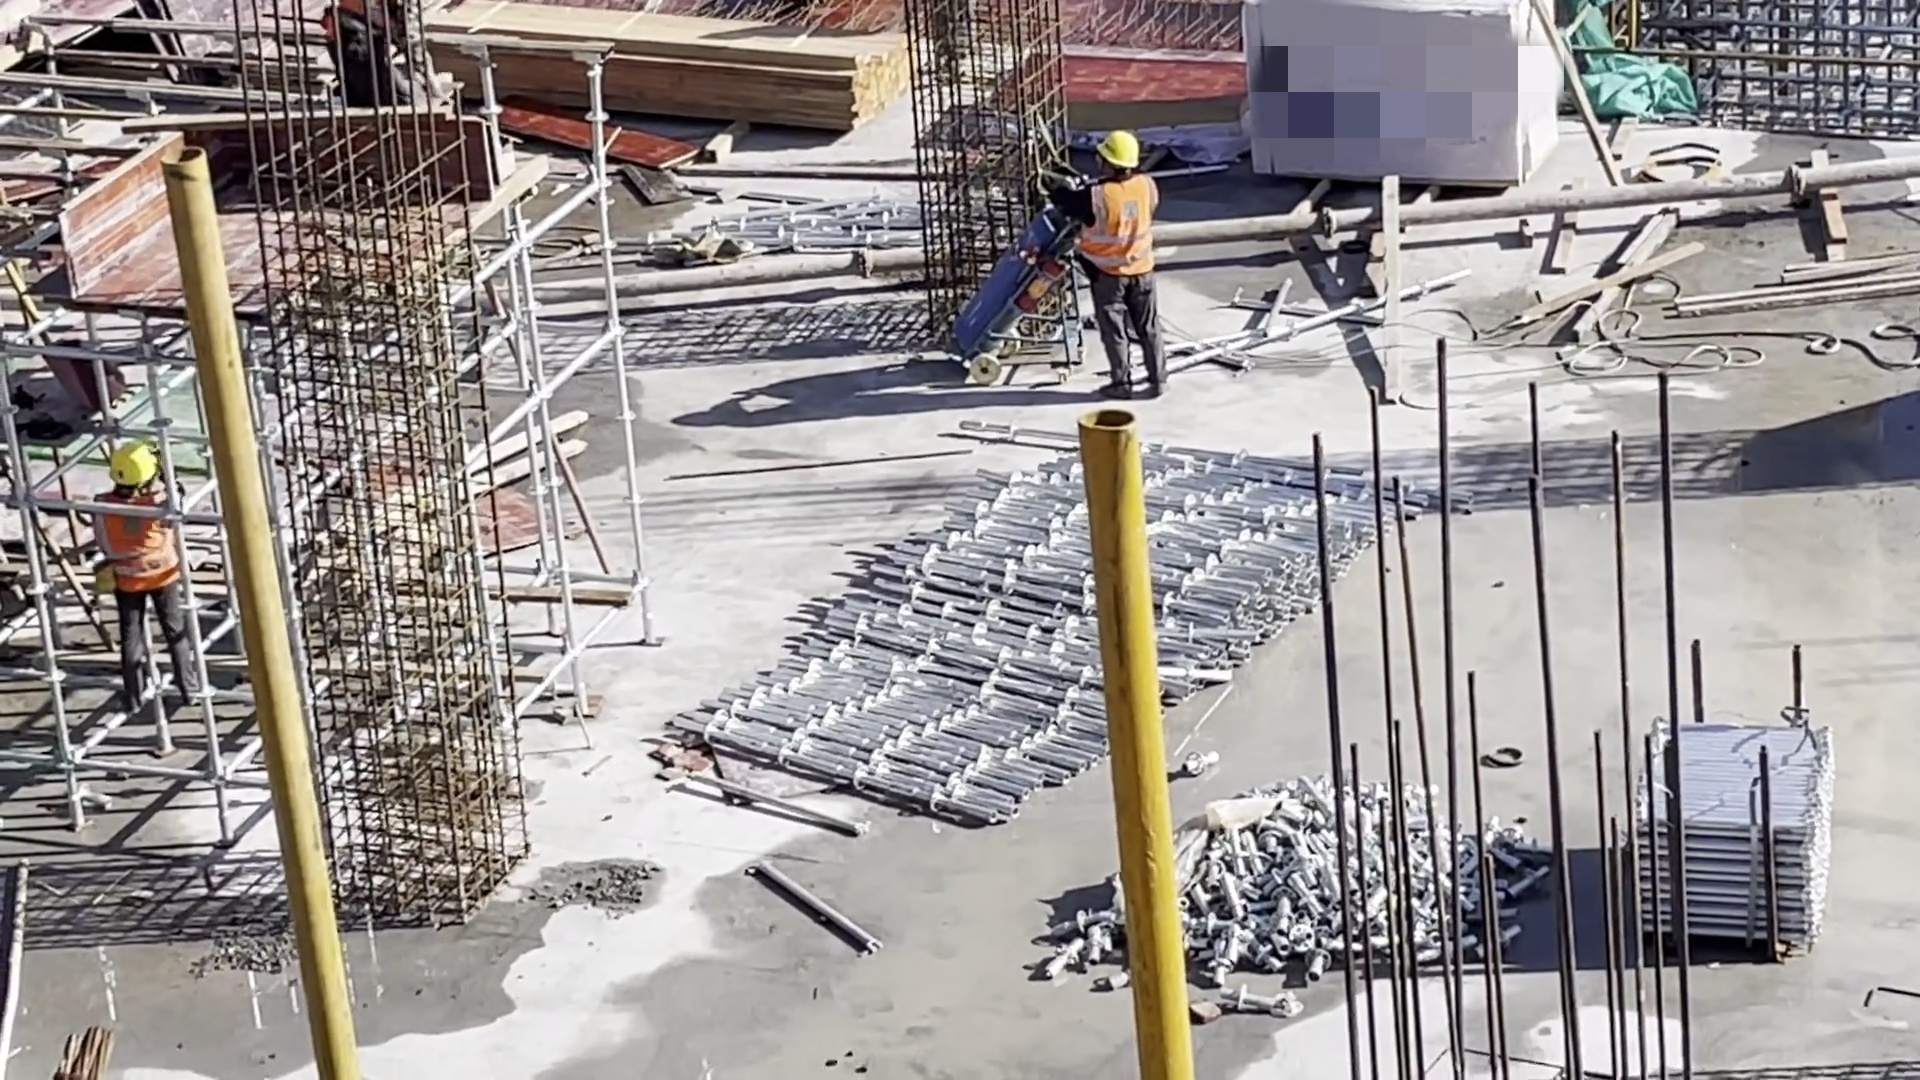helmet: (106, 445, 159, 484), (1099, 134, 1141, 166)
person: (89, 445, 210, 720), (1052, 134, 1177, 389), (329, 5, 430, 100)
vest: (96, 488, 188, 601), (1083, 179, 1162, 277)
